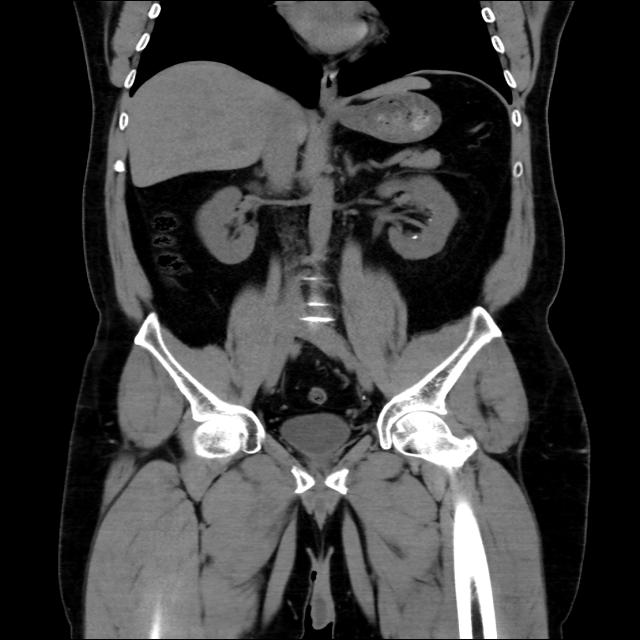kidneystone: (409, 232, 415, 238)
